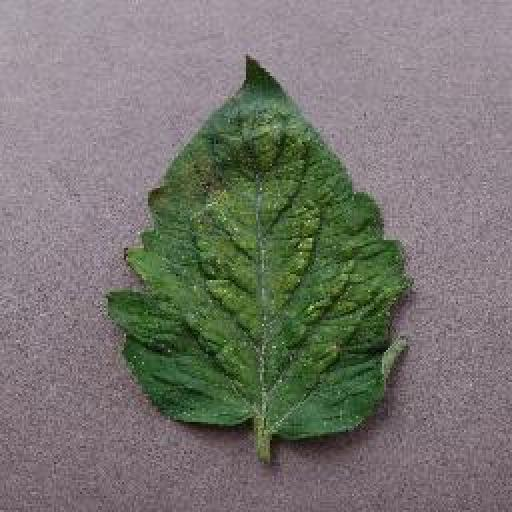Spider Mites: (105, 53, 412, 443)
